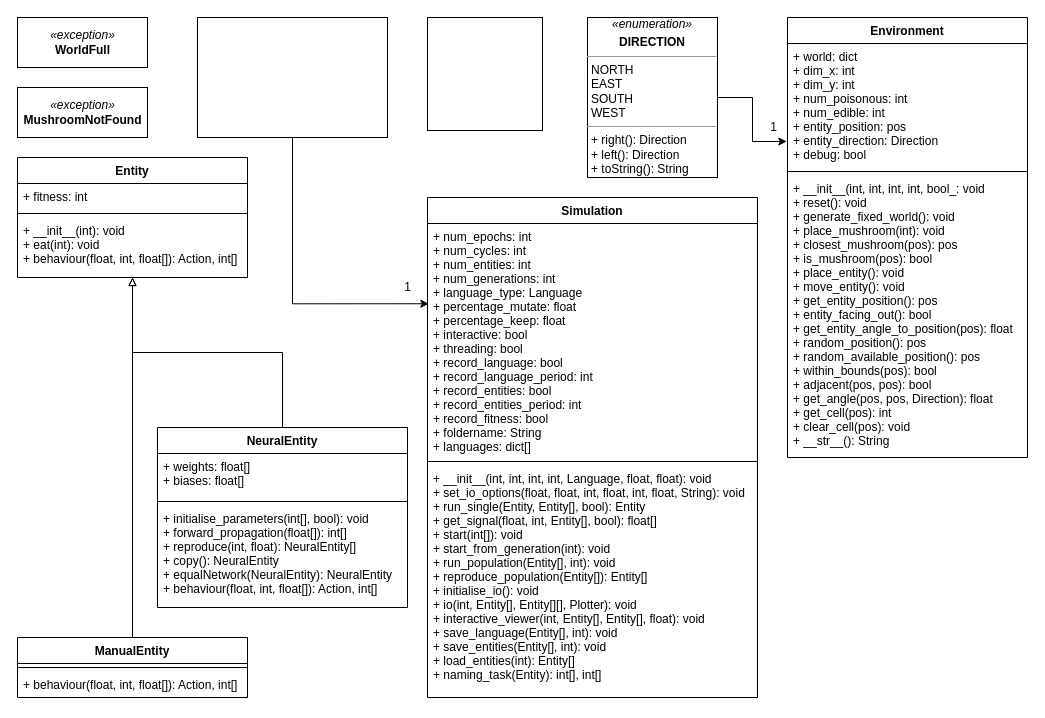
Some shapes in this 1045 by 718 pixel diagram are drawn without their labels. The centre of each missing label's shape, as x and y in pixels:
«enumeration» Action FORWARDS LEFT RIGHT NOTHING: the point at 484,73
«enumeration» Language NONE EXTERNAL EVOLVED + fromString(String): Language: the point at 292,77
